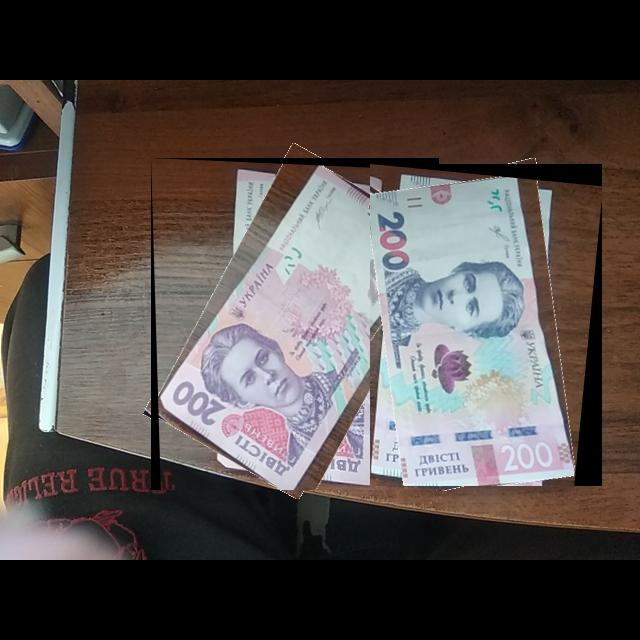200uah: (158, 165, 440, 491), (370, 175, 581, 487)
